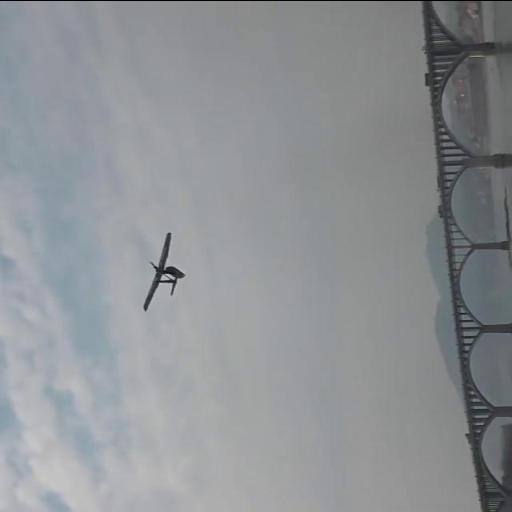uav: (140, 232, 184, 310)
